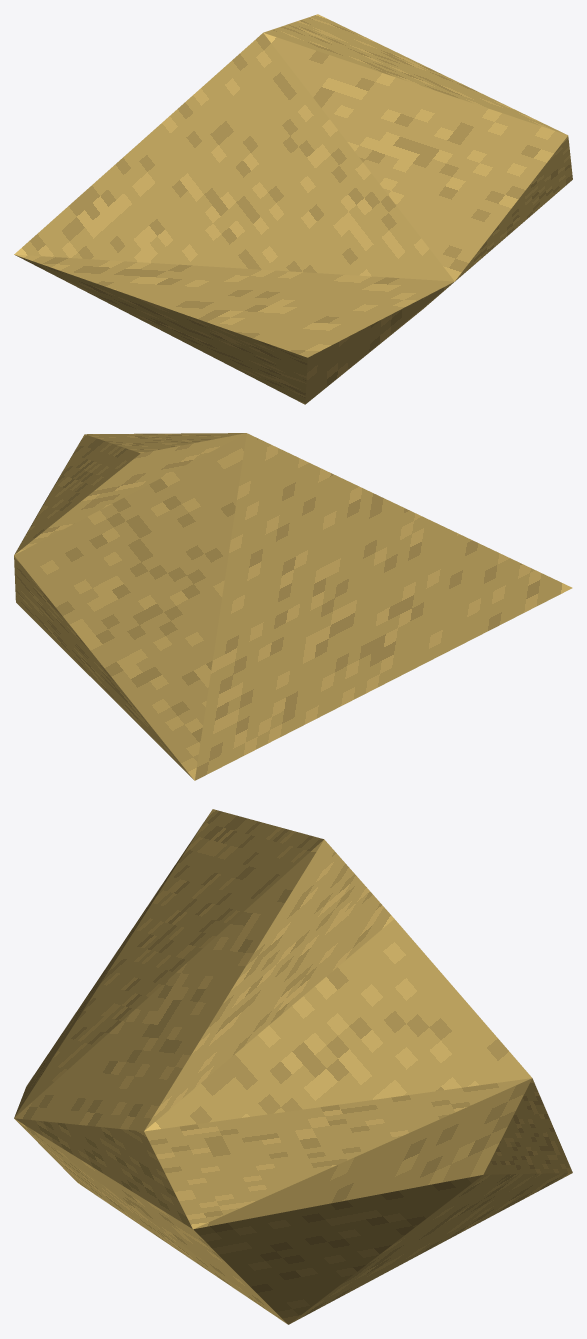
The model's file is scrap_brass.glb.
3 renders of one model, top to bottom at view 1: azimuth 30°, elevation 25°; view 2: azimuth 150°, elevation 25°; view 3: azimuth 270°, elevation 25°, orthographic. The views are drawn at different scales.
Visible parts, largest first — view 1: block_irregular metal; view 2: block_irregular metal; view 3: block_irregular metal.
Boxes of the visible parts, x1,y1,x2,y2 form: block_irregular metal: (14, 14, 572, 404); block_irregular metal: (14, 433, 572, 780); block_irregular metal: (14, 809, 572, 1324).
Bounding box in the file's own units: 0.0609 × 0.0318 × 0.0411.
Materials: 1 (1 with a texture image).
